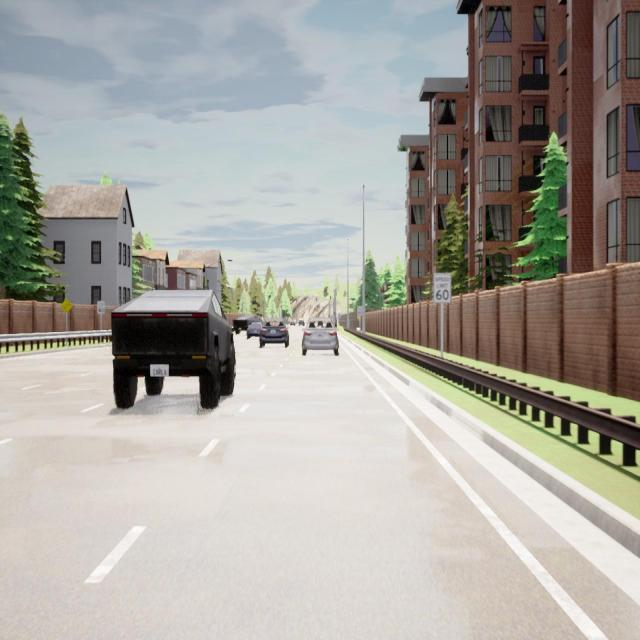Traffic_Signs: (434, 274, 451, 302), (62, 297, 72, 312), (97, 300, 104, 314), (357, 306, 364, 315)
Vehicle: (111, 291, 235, 408), (302, 318, 338, 356), (260, 320, 289, 348), (234, 314, 264, 335), (246, 322, 262, 338), (298, 320, 304, 326), (290, 320, 295, 326)
traffic_light: (304, 297, 306, 301), (315, 297, 317, 301), (334, 312, 335, 315), (296, 297, 296, 301)
